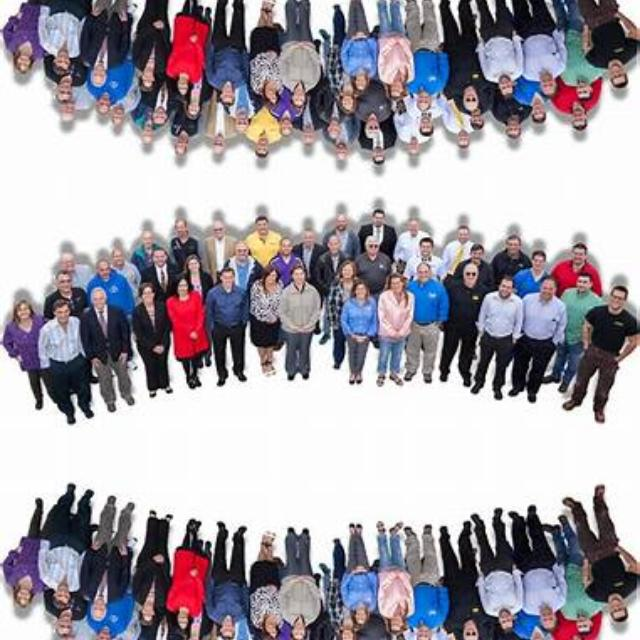person: (206, 264, 252, 366), (206, 7, 252, 108), (206, 541, 251, 640), (36, 302, 84, 394), (36, 512, 84, 604), (132, 278, 176, 378), (132, 528, 176, 628), (284, 516, 318, 640), (284, 268, 318, 390), (132, 0, 175, 93), (346, 272, 379, 386), (346, 520, 379, 634), (284, 0, 317, 104), (253, 262, 284, 371), (253, 1, 284, 110), (36, 0, 84, 70), (170, 283, 208, 371), (170, 1, 208, 89), (170, 535, 208, 623), (346, 0, 379, 100), (253, 535, 284, 640), (86, 291, 125, 373), (86, 533, 125, 615), (491, 276, 524, 372), (491, 0, 524, 96), (491, 535, 524, 631), (86, 0, 125, 81), (2, 290, 40, 368), (2, 4, 40, 82), (2, 538, 40, 616), (386, 272, 412, 376), (386, 530, 412, 634), (386, 0, 412, 100), (529, 0, 554, 96), (530, 276, 554, 374), (530, 533, 554, 631), (354, 230, 382, 274), (354, 98, 382, 142), (230, 238, 252, 286), (230, 86, 252, 134), (229, 620, 252, 640), (354, 632, 382, 640)
